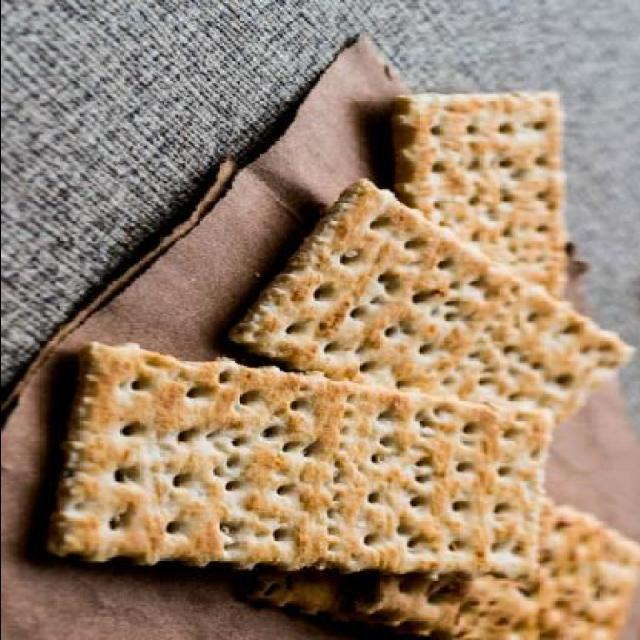Cracker packaged: (27, 352, 565, 580), (196, 192, 633, 450)
